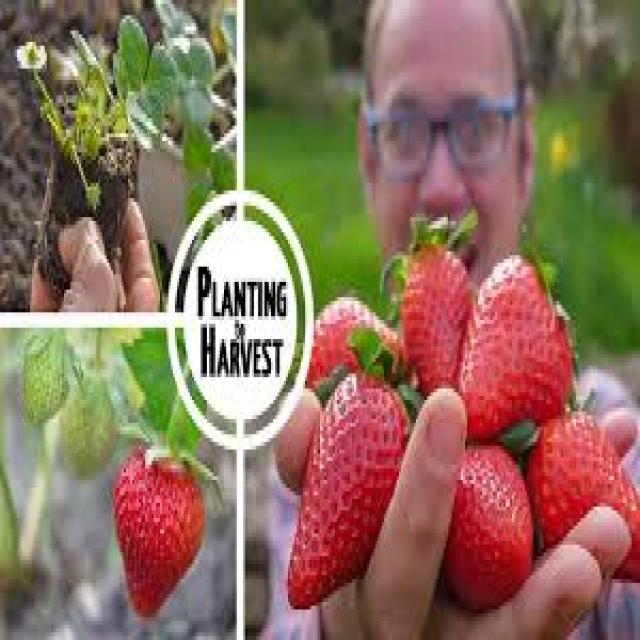strawberry: (266, 350, 414, 611), (453, 258, 584, 432), (105, 426, 216, 614)
